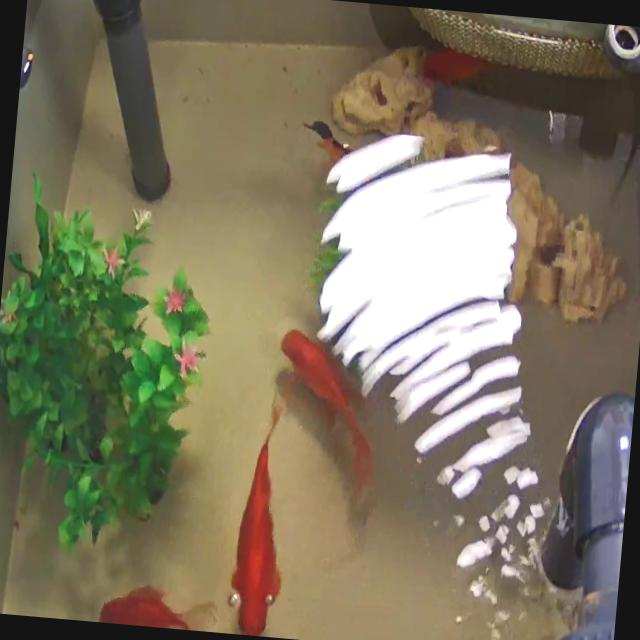fish: (255, 275, 388, 505), (225, 410, 298, 638), (94, 579, 225, 632)
